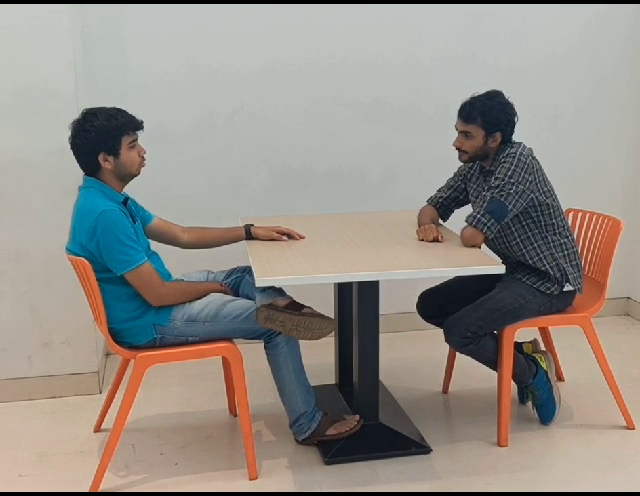person: (66, 103, 154, 187), (450, 85, 527, 169)
